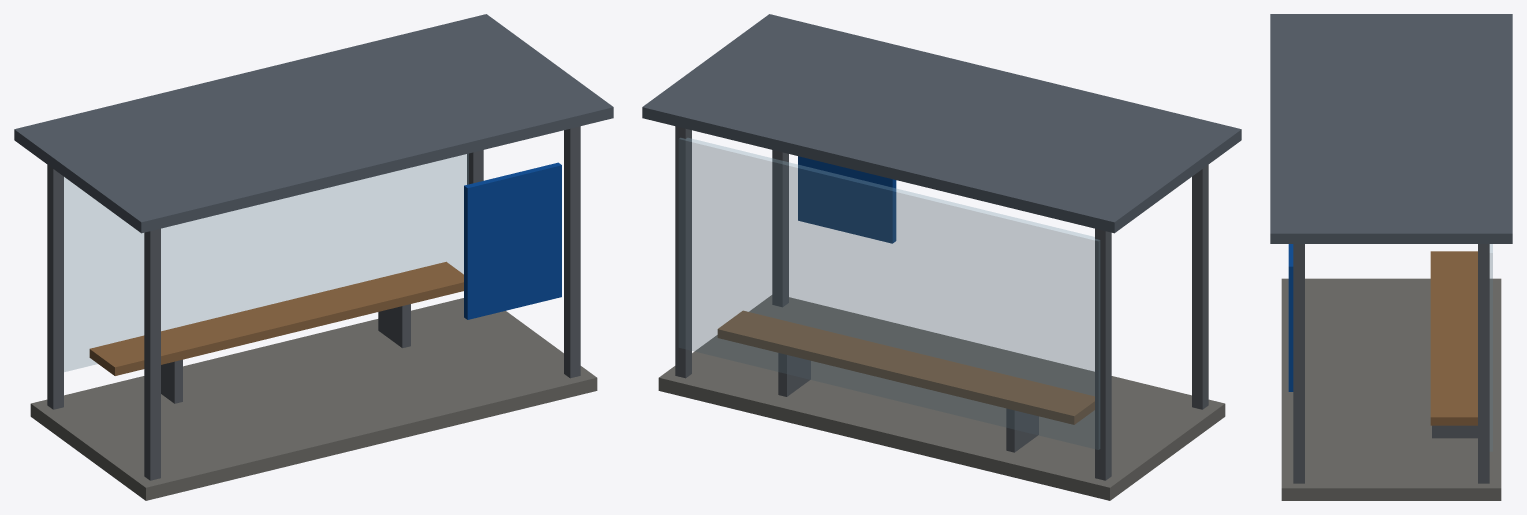
The model's file is busstop.glb.
3 views of the same model, side by side, from view 1: azimuth 30°, elevation 25°; view 2: azimuth 150°, elevation 25°; view 3: azimuth 270°, elevation 25° (orthographic). The views are drawn at different scales.
Parts seen in each view (by area): view 1: busstop; view 2: busstop; view 3: busstop.
Boxes of the visible parts, x1,y1,x2,y2 form: busstop: (14, 14, 613, 500); busstop: (642, 14, 1241, 500); busstop: (1270, 14, 1512, 500).
Bounding box in the file's own units: 4.5 × 2.6 × 2.1.
